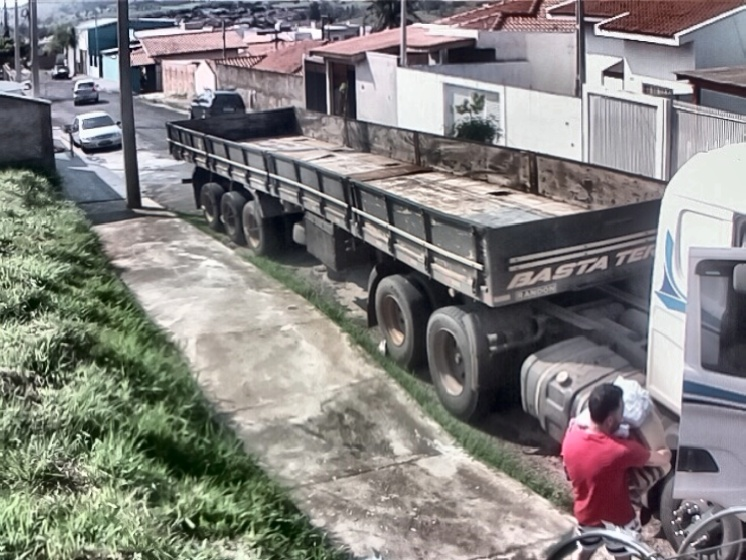person: (558, 382, 678, 560)
